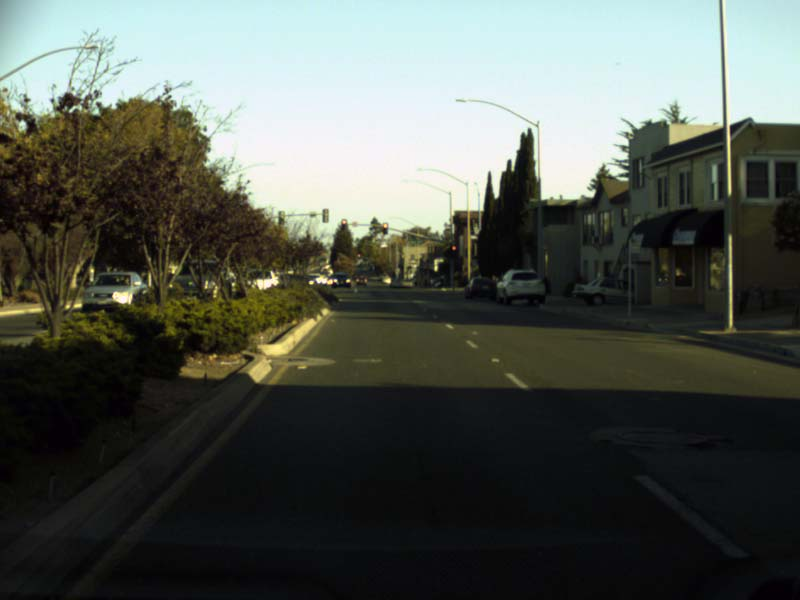Red: (450, 244, 456, 258), (382, 222, 387, 233), (341, 218, 346, 229)
